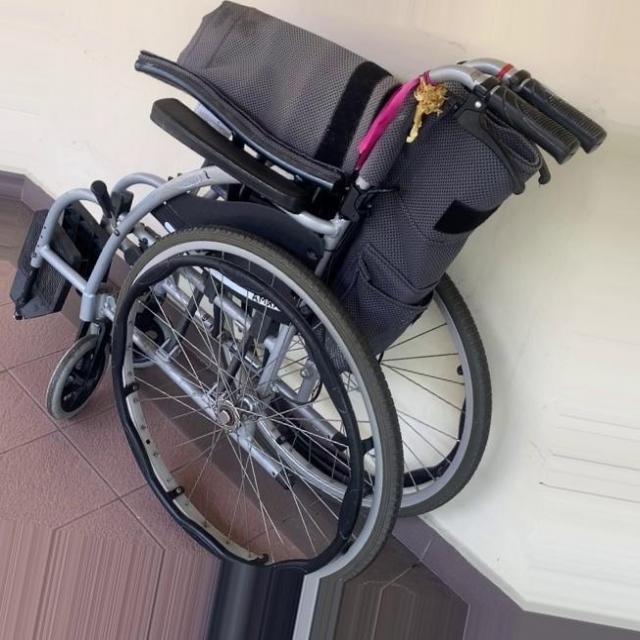wheelchair: (6, 2, 614, 640)
